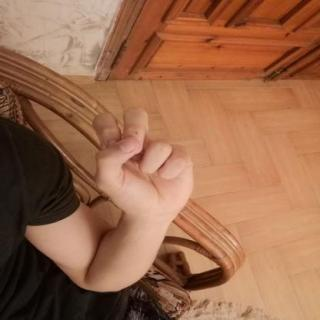QAAF: (76, 100, 208, 228)
